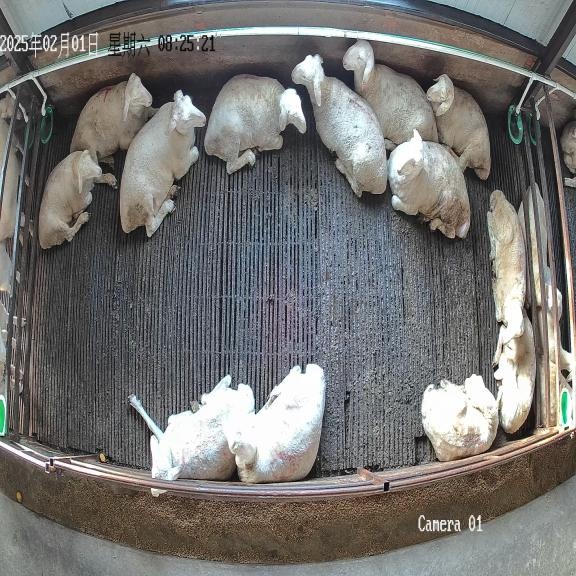lying: (292, 55, 387, 197), (129, 374, 255, 480), (120, 90, 206, 237), (223, 364, 325, 483), (343, 39, 438, 150), (204, 74, 306, 174), (387, 129, 470, 238), (70, 73, 157, 164), (38, 150, 117, 248), (487, 190, 526, 366), (421, 374, 499, 461), (426, 74, 490, 179), (494, 315, 536, 433)
